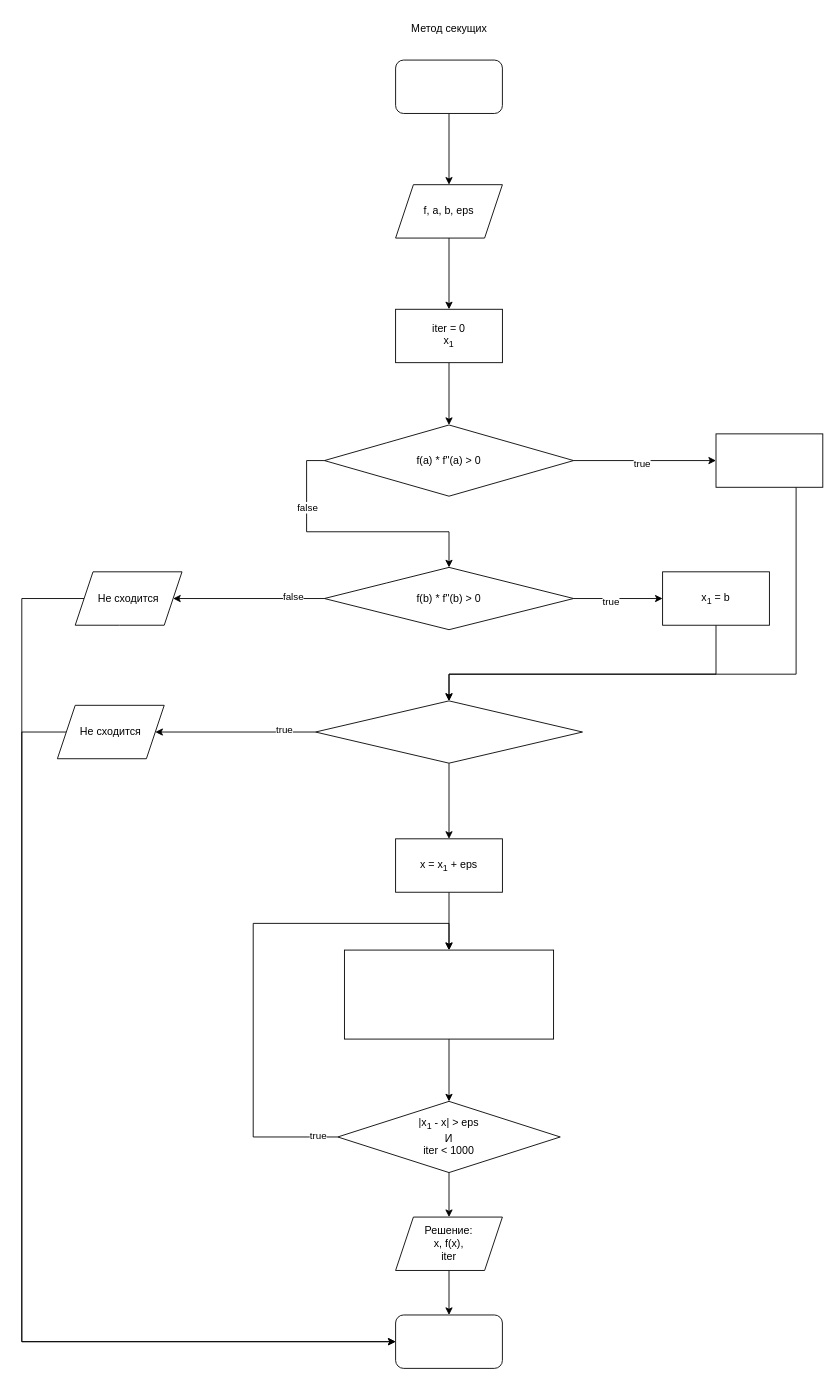
Image size: 838x1384. Some labels were removed from this diagram. The shapes that lost their labels are listed below. From the top down, each one's box as (x1, y1, x2, y2) in pixels, then its label:
(395, 59, 502, 113): начало
(715, 433, 823, 487): x 1 = a
(315, 700, 583, 763): f'(a) * f'(b) < 0)
(344, 949, 554, 1039): x next1 = x - (x - x 1 )/(f(x) - f(x 1 )) * f(x) x 1 = x x = x next1 iter++
(395, 1314, 502, 1368): конец
